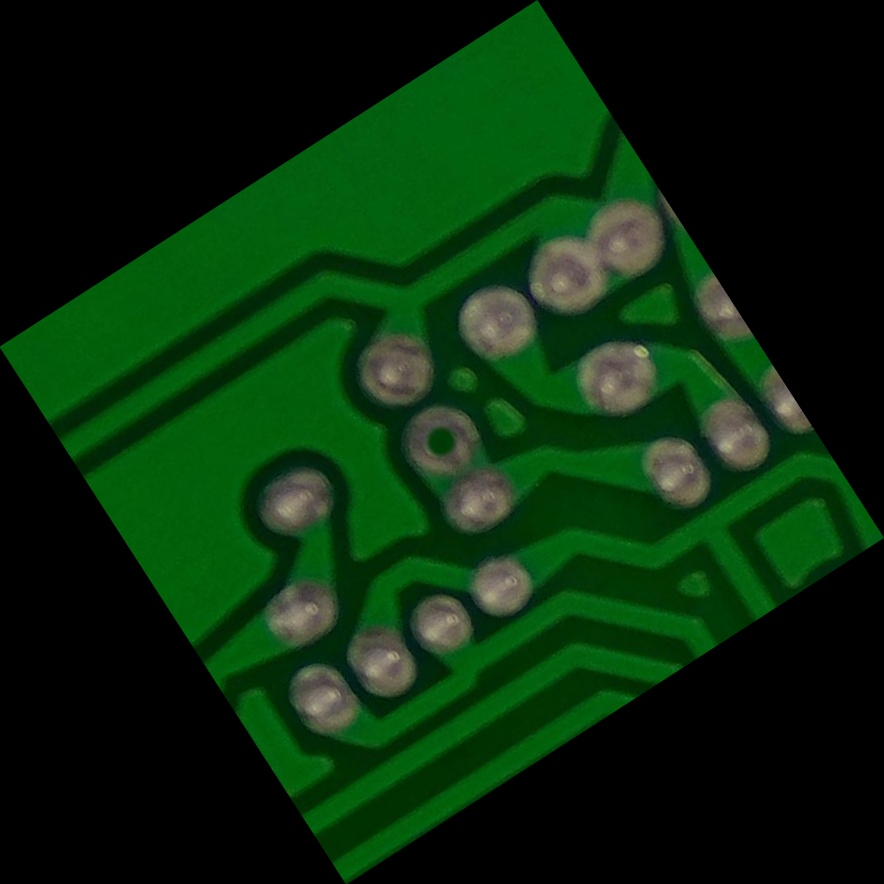missing_hole: (379, 378, 506, 507)
